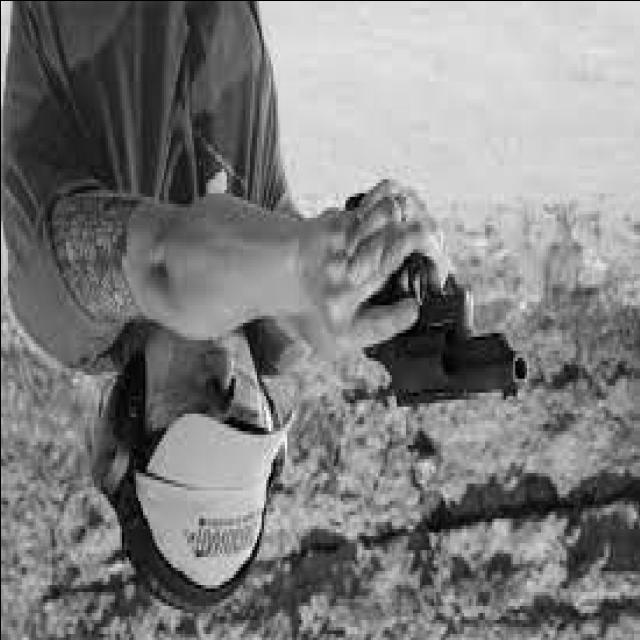weapons: (320, 216, 564, 439)
